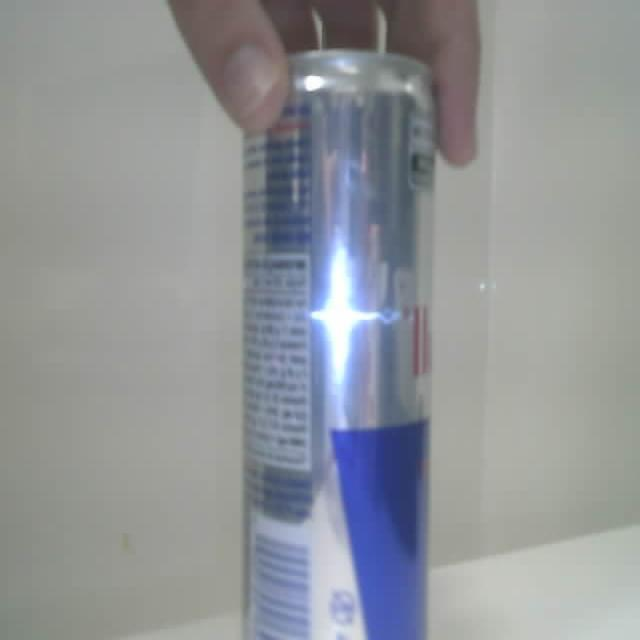redbull can: (244, 51, 433, 639)
